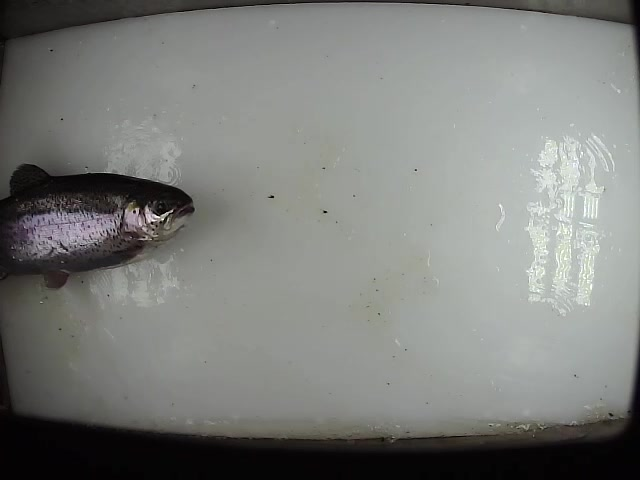fish: (1, 162, 199, 293)
